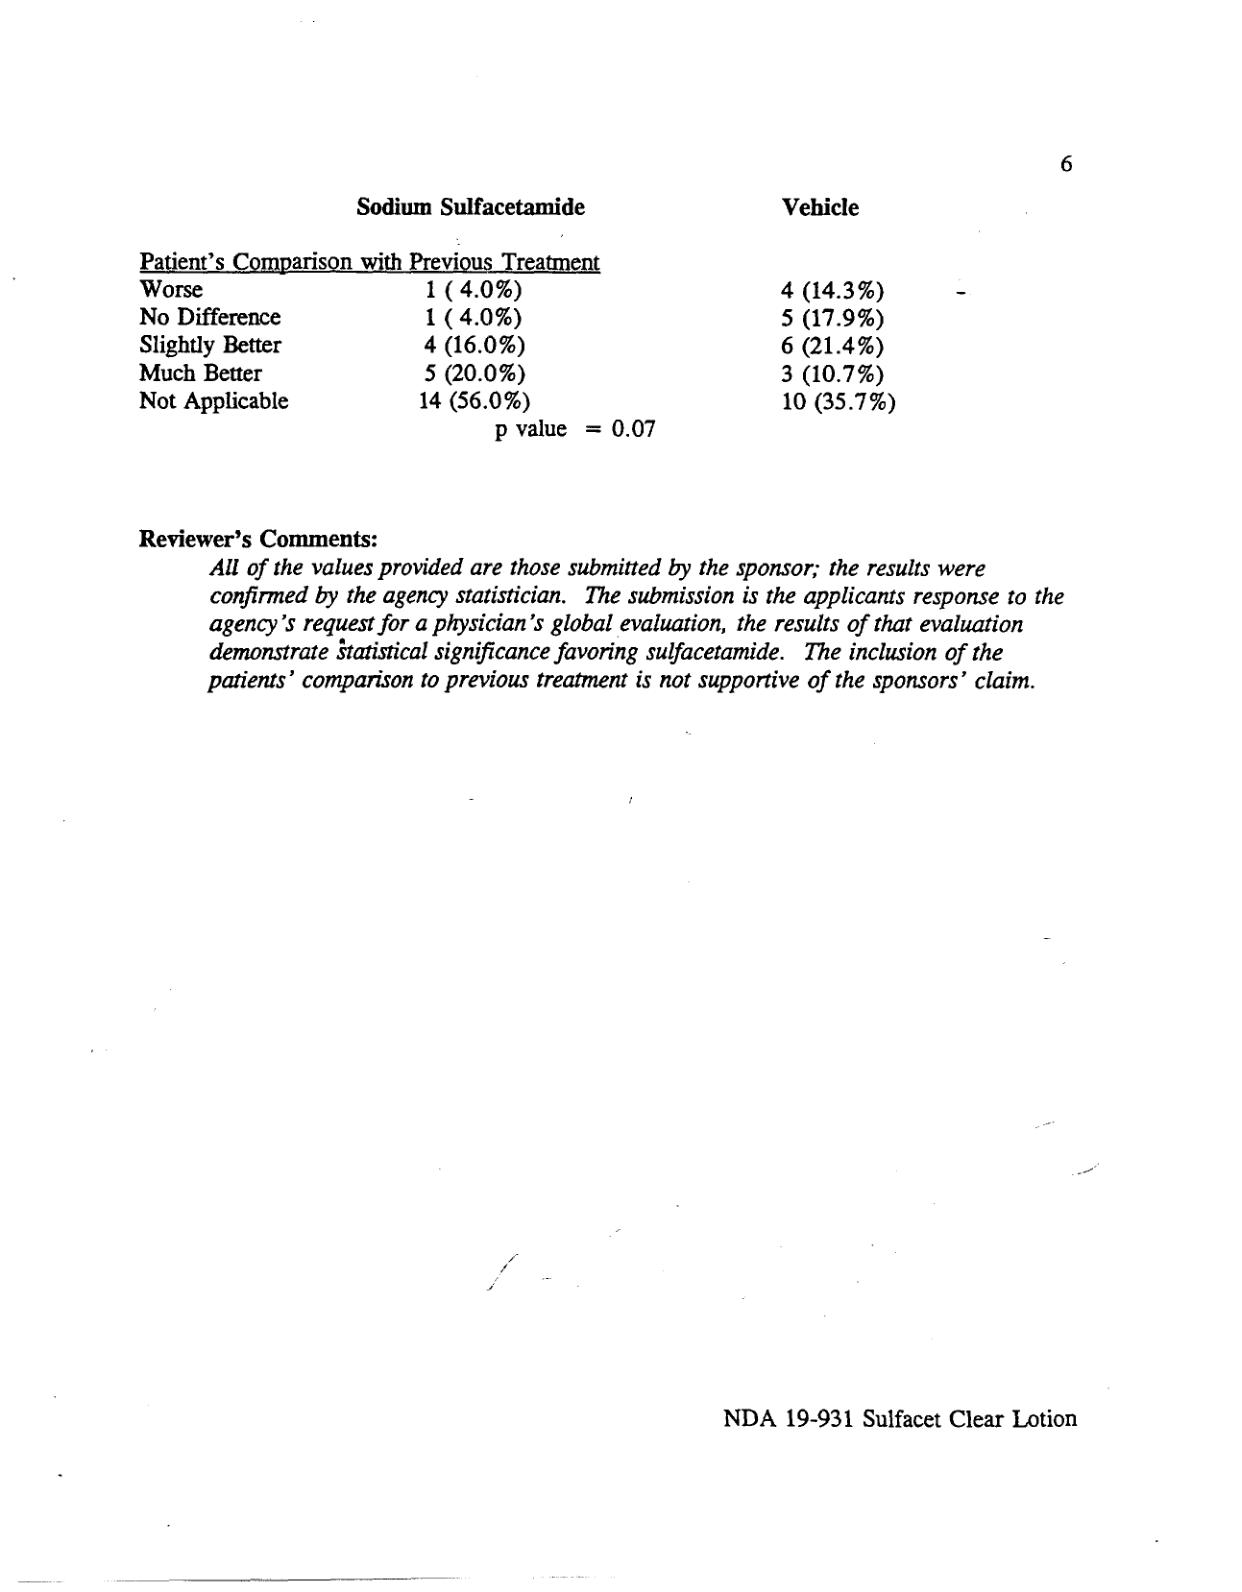nolines: (132, 243, 900, 445)
